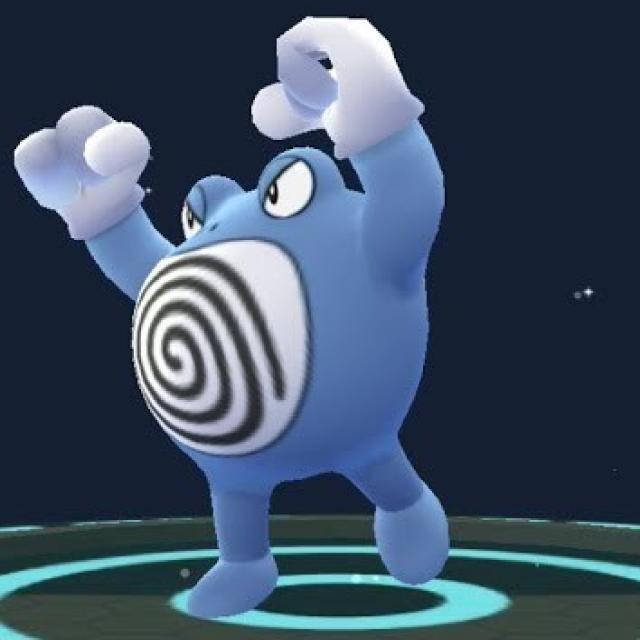Poliwrath: (84, 96, 430, 539)
